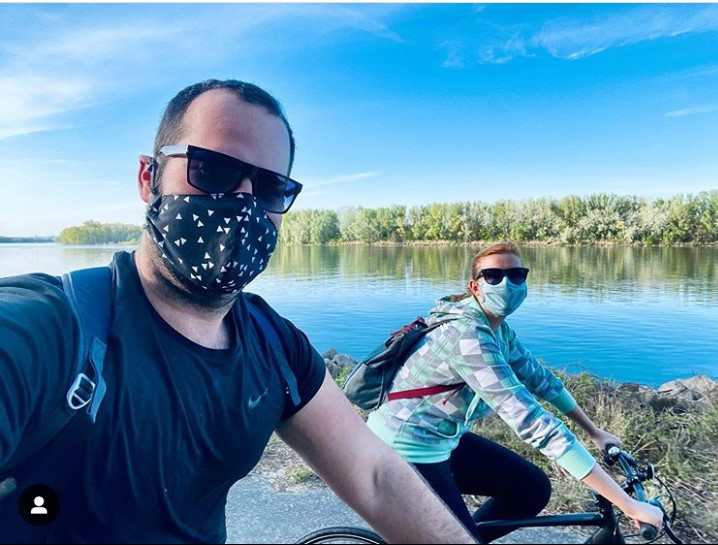face_with_mask: (135, 85, 300, 304), (474, 251, 527, 316)
